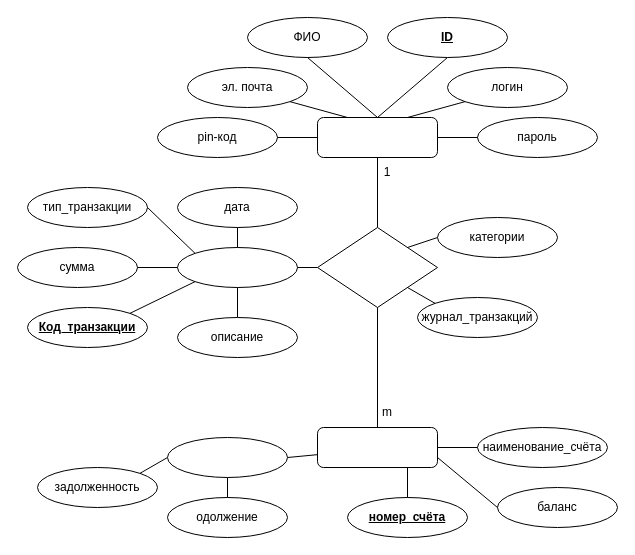
Some shapes in this 635 by 555 pixel diagram are drawn without their labels. Each missing label, with the centre of its shape:
"ПОЛЬЗОВАТЕЛЬ" belongs at (x=377, y=137).
"транзакция" belongs at (x=237, y=267).
"УЧЁТ" belongs at (x=377, y=267).
"финансовые обязанности" belongs at (x=227, y=457).
"ФИНАНСЫ" belongs at (x=377, y=447).
